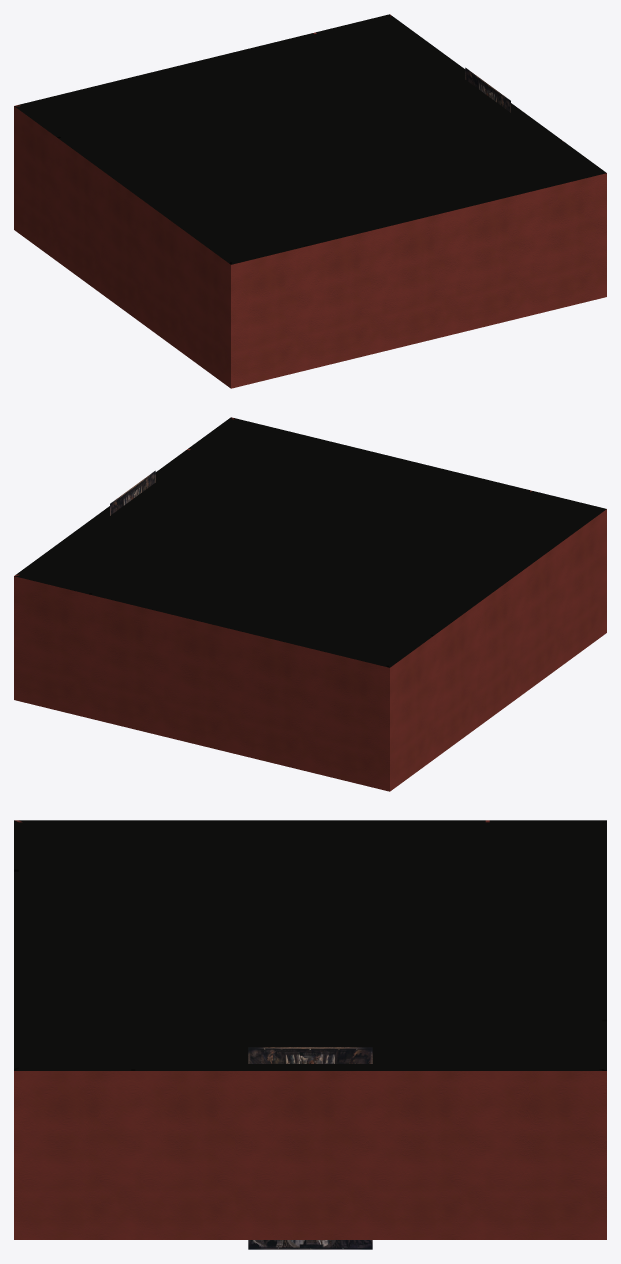
3 renders of one model, top to bottom at view 1: azimuth 30°, elevation 25°; view 2: azimuth 150°, elevation 25°; view 3: azimuth 270°, elevation 25°, orthographic. The views are drawn at different scales.
Parts seen in each view (by area): view 1: Int_Apt_03_Corner_01, Int_Apt_03_Corner_01 (1), Int_Apt_03_Wall_01, Int_Apt_03_Wall_01 (2), NorthWallContent, Int_Apt_03_Corner_01 (3), Int_Apt_03_Wall_01 (11), Int_Apt_03_Wall_01 (9), Int_Apt_03_Wall_01 (12), Int_apt_01_Ceiling_01 (22), Int_apt_01_Ceiling_01 (24), Int_apt_01_Ceiling_01 (17) (+24 smaller); view 2: Int_Apt_03_Corner_01 (3), Int_Apt_03_Corner_01 (2), Int_Apt_03_Wall_01 (7), Int_Apt_03_Wall_01 (6), Int_Apt_03_Wall_01 (8), Int_Apt_03_Corner_01, Int_Apt_03_Wall_01 (11), Int_Apt_03_Wall_01 (9), Int_Apt_03_Wall_01 (12), SouthDoor, Int_apt_01_Ceiling_01 (12), Int_apt_01_Ceiling_01 (14) (+25 smaller); view 3: Int_Apt_03_Corner_01 (1), Int_Apt_03_Corner_01 (2), Int_Apt_03_Wall_01 (3), WestWallContent, Int_Apt_03_Wall_01 (5), Int_apt_01_Ceiling_01 (24), Int_apt_01_Ceiling_01 (14), Int_apt_01_Ceiling_01 (12), Int_apt_01_Ceiling_01 (23), Int_apt_01_Ceiling_01 (22), Int_apt_01_Ceiling_01 (13), Int_apt_01_Ceiling_01 (20) (+21 smaller).
Boxes of the visible parts, bbox=[...] form: Int_Apt_03_Corner_01: bbox=[186, 231, 307, 388]; Int_Apt_03_Corner_01 (1): bbox=[529, 141, 606, 315]; Int_Apt_03_Wall_01: bbox=[306, 227, 381, 369]; Int_Apt_03_Wall_01 (2): bbox=[454, 190, 529, 333]; NorthWallContent: bbox=[380, 209, 455, 351]; Int_Apt_03_Corner_01 (3): bbox=[14, 87, 92, 261]; Int_Apt_03_Wall_01 (11): bbox=[58, 138, 103, 293]; Int_Apt_03_Wall_01 (9): bbox=[144, 200, 188, 355]; Int_Apt_03_Wall_01 (12): bbox=[101, 169, 144, 324]; Int_apt_01_Ceiling_01 (22): bbox=[190, 213, 306, 264]; Int_apt_01_Ceiling_01 (24): bbox=[486, 141, 602, 190]; Int_apt_01_Ceiling_01 (17): bbox=[147, 182, 263, 231]; Int_Apt_03_Corner_01 (3): bbox=[313, 635, 434, 791]; Int_Apt_03_Corner_01 (2): bbox=[14, 543, 90, 718]; Int_Apt_03_Wall_01 (7): bbox=[163, 611, 238, 753]; Int_Apt_03_Wall_01 (6): bbox=[239, 630, 314, 772]; Int_Apt_03_Wall_01 (8): bbox=[91, 593, 166, 736]; Int_Apt_03_Corner_01: bbox=[530, 490, 606, 664]; Int_Apt_03_Wall_01 (11): bbox=[431, 603, 476, 758]; Int_Apt_03_Wall_01 (9): bbox=[517, 541, 562, 696]; Int_Apt_03_Wall_01 (12): bbox=[475, 572, 518, 727]; SouthDoor: bbox=[165, 612, 240, 754]; Int_apt_01_Ceiling_01 (12): bbox=[315, 616, 431, 667]; Int_apt_01_Ceiling_01 (14): bbox=[19, 544, 134, 594]; Int_Apt_03_Corner_01 (1): bbox=[14, 1019, 135, 1239]; Int_Apt_03_Corner_01 (2): bbox=[485, 1021, 606, 1239]; Int_Apt_03_Wall_01 (3): bbox=[135, 1069, 251, 1239]; WestWallContent: bbox=[252, 1069, 368, 1239]; Int_Apt_03_Wall_01 (5): bbox=[369, 1069, 485, 1239]; Int_apt_01_Ceiling_01 (24): bbox=[18, 1019, 135, 1070]; Int_apt_01_Ceiling_01 (14): bbox=[485, 1019, 602, 1070]; Int_apt_01_Ceiling_01 (12): bbox=[485, 822, 602, 871]; Int_apt_01_Ceiling_01 (23): bbox=[18, 970, 135, 1019]; Int_apt_01_Ceiling_01 (22): bbox=[18, 822, 135, 871]; Int_apt_01_Ceiling_01 (13): bbox=[485, 970, 602, 1019]; Int_apt_01_Ceiling_01 (20): bbox=[18, 921, 135, 970].
Bounding box in the file's own units: 12.7 × 4.78 × 12.7.
Materials: 9 (6 with a texture image).
